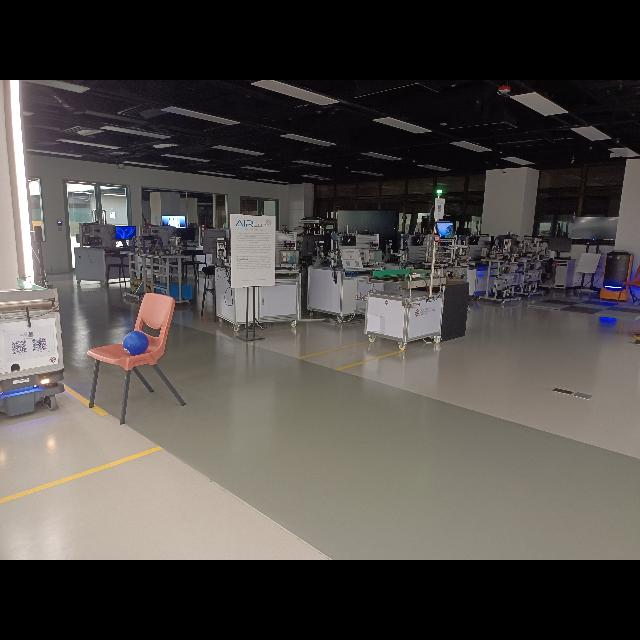B: (124, 332, 148, 354)
